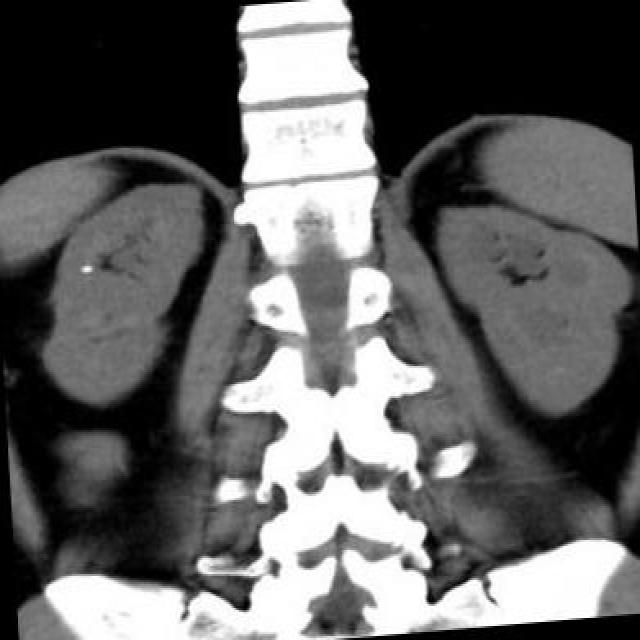Tas_Var: (78, 264, 92, 278)
